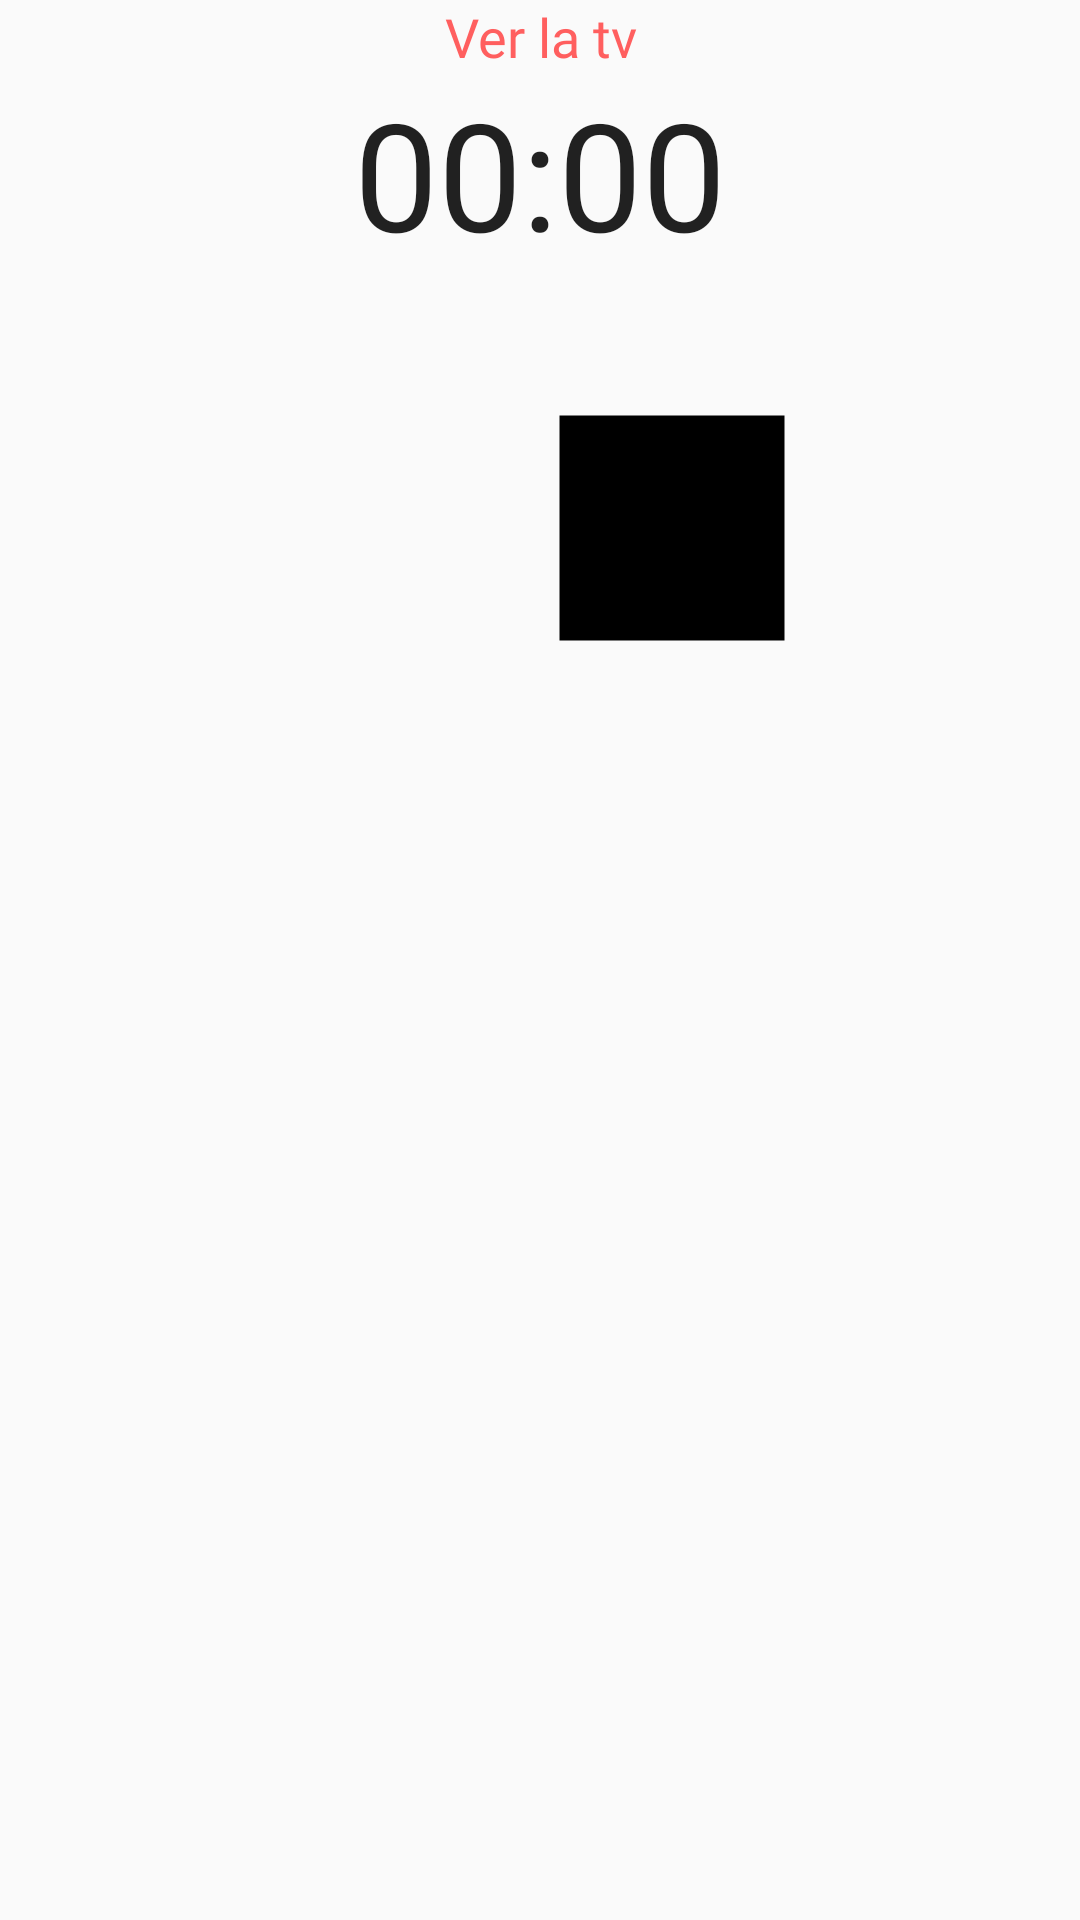

Point at icon controls on the screen. Image size 1080w x 1920h, points as point (x, y).
stop: point (672, 528)
